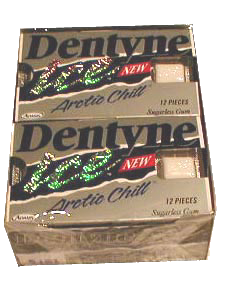grozi_22: (4, 24, 216, 265)
